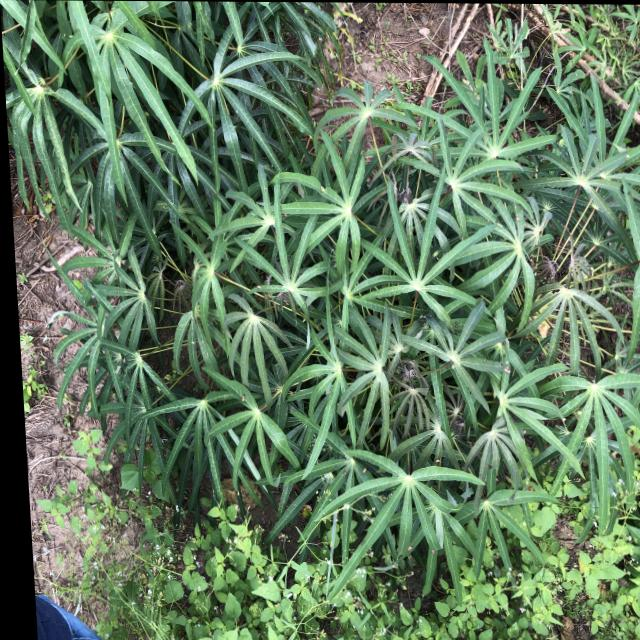Maleza: (177, 518, 309, 640), (448, 576, 636, 640)
Mosca: (177, 327, 198, 352), (499, 355, 516, 380), (425, 453, 443, 466), (236, 390, 250, 406), (427, 543, 439, 558), (358, 466, 371, 478), (313, 483, 323, 496), (405, 541, 414, 551)
